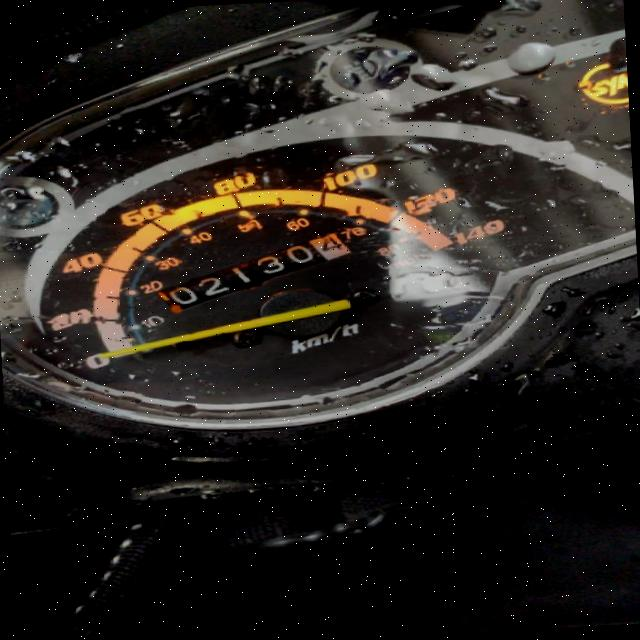odometer: (149, 229, 357, 317)
